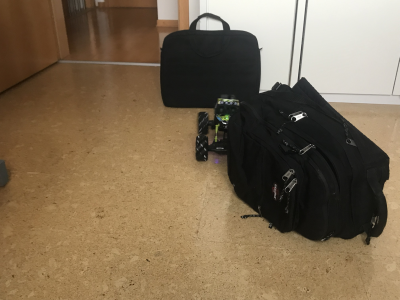remote control car: (190, 93, 247, 162)
